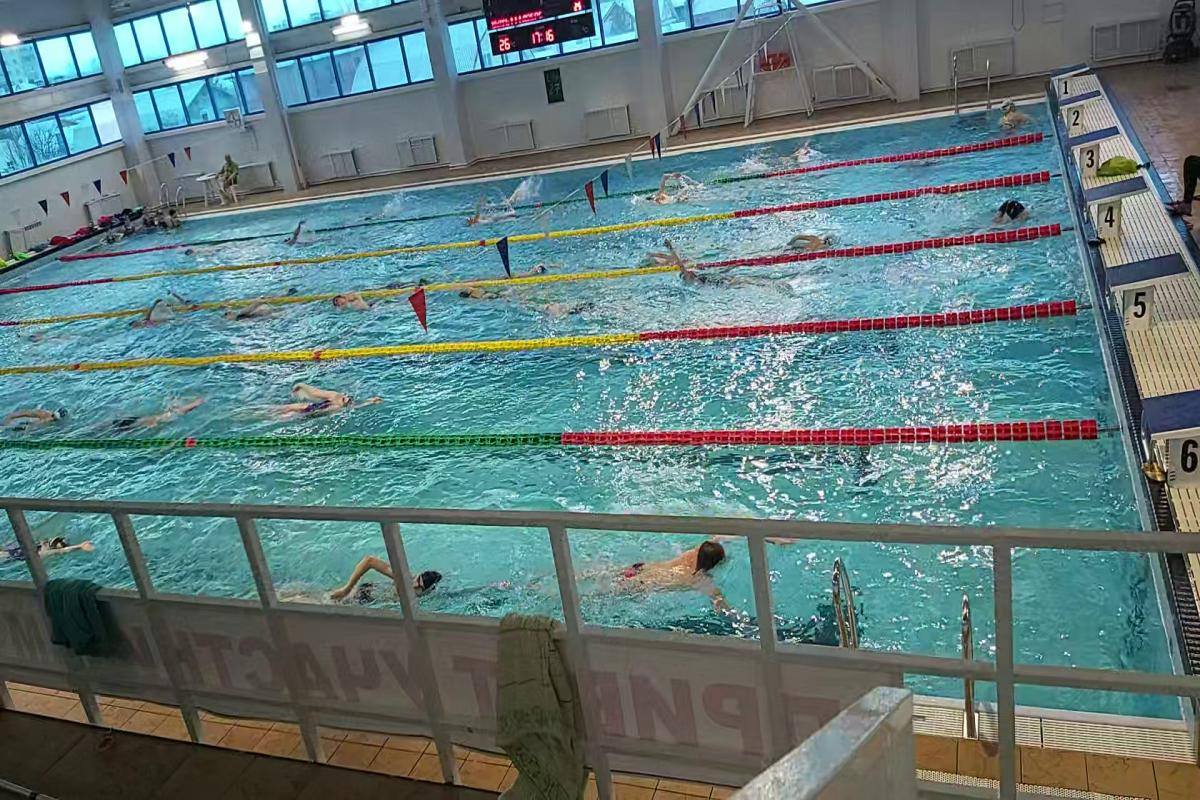swimmer: (544, 535, 747, 617), (281, 546, 451, 608), (249, 378, 389, 432), (660, 240, 752, 294), (106, 392, 211, 435), (5, 529, 102, 562), (6, 398, 75, 436), (643, 167, 696, 210), (776, 222, 843, 255), (463, 193, 515, 230), (121, 299, 174, 334), (983, 191, 1032, 227), (226, 298, 284, 323), (330, 290, 389, 314), (452, 283, 510, 306), (278, 220, 322, 248), (517, 255, 557, 276)
